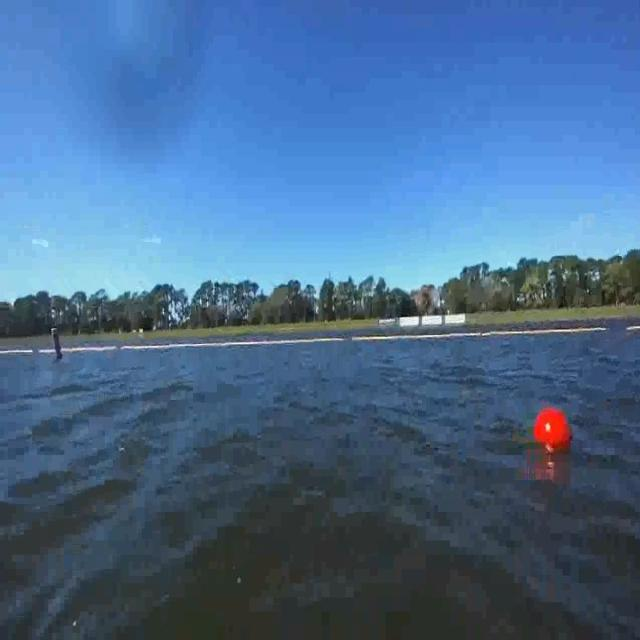red-buoy: (533, 409, 571, 455)
